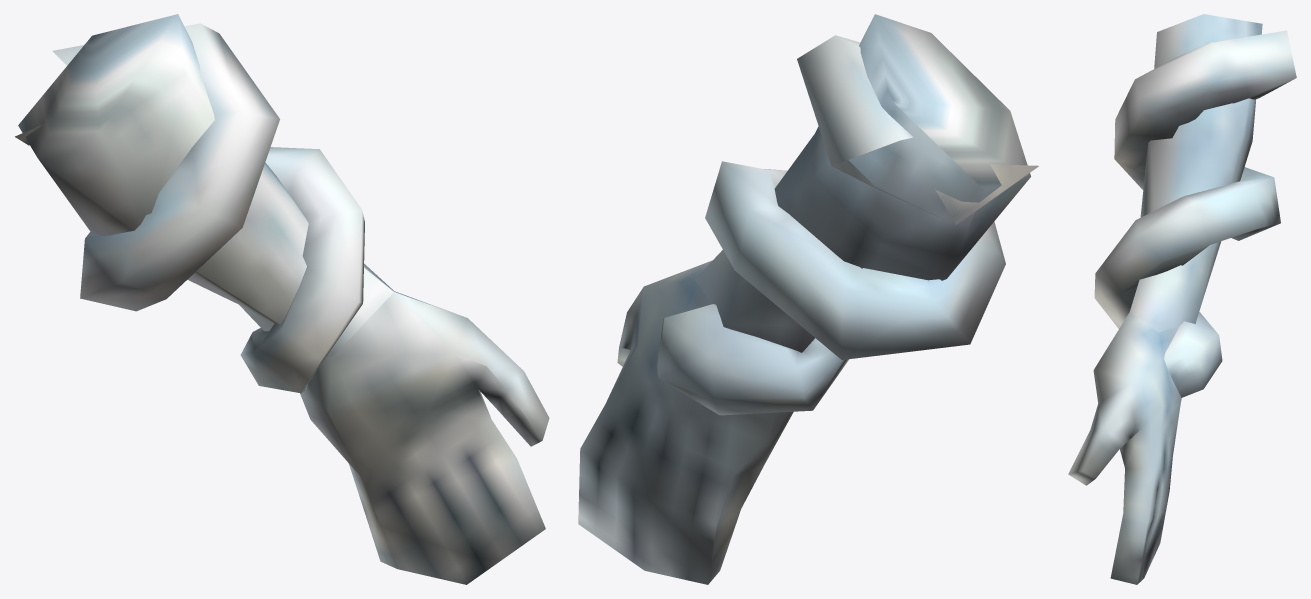
File: Minos_Lower_Left_Arm.obj
The picture shows the model from 3 angles, left to right: view 1: azimuth 30°, elevation 25°; view 2: azimuth 150°, elevation 25°; view 3: azimuth 270°, elevation 25°; orthographic projection. The views are drawn at different scales.
Visible parts, largest first — view 1: Minos_Lower_Left_Arm; view 2: Minos_Lower_Left_Arm; view 3: Minos_Lower_Left_Arm.
Boxes of the visible parts, x1,y1,x2,y2 form: Minos_Lower_Left_Arm: (15,14,549,584); Minos_Lower_Left_Arm: (578,14,1038,584); Minos_Lower_Left_Arm: (1068,14,1296,584).
Bounding box in the file's own units: 0.2117 × 0.2546 × 0.1117.
1 material, 1 textured.
